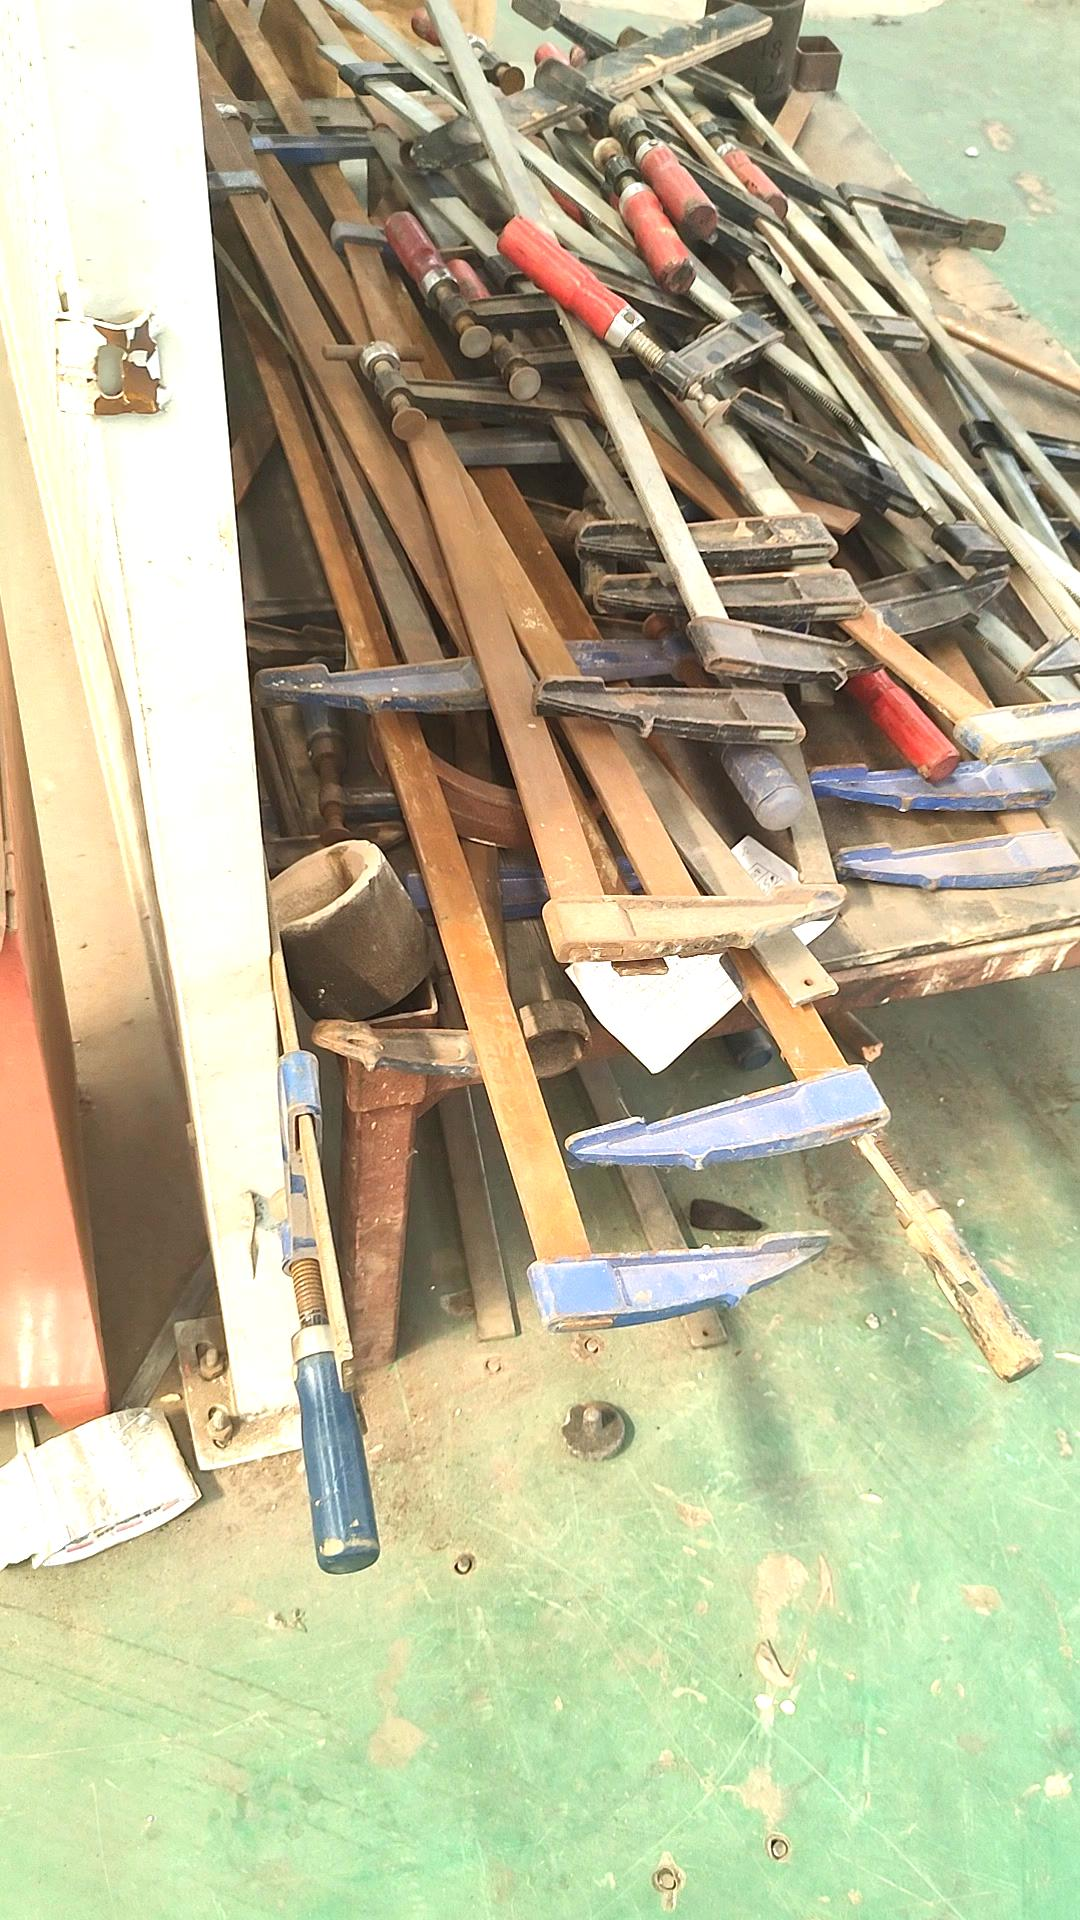pouring hole: (713, 1, 811, 11)
